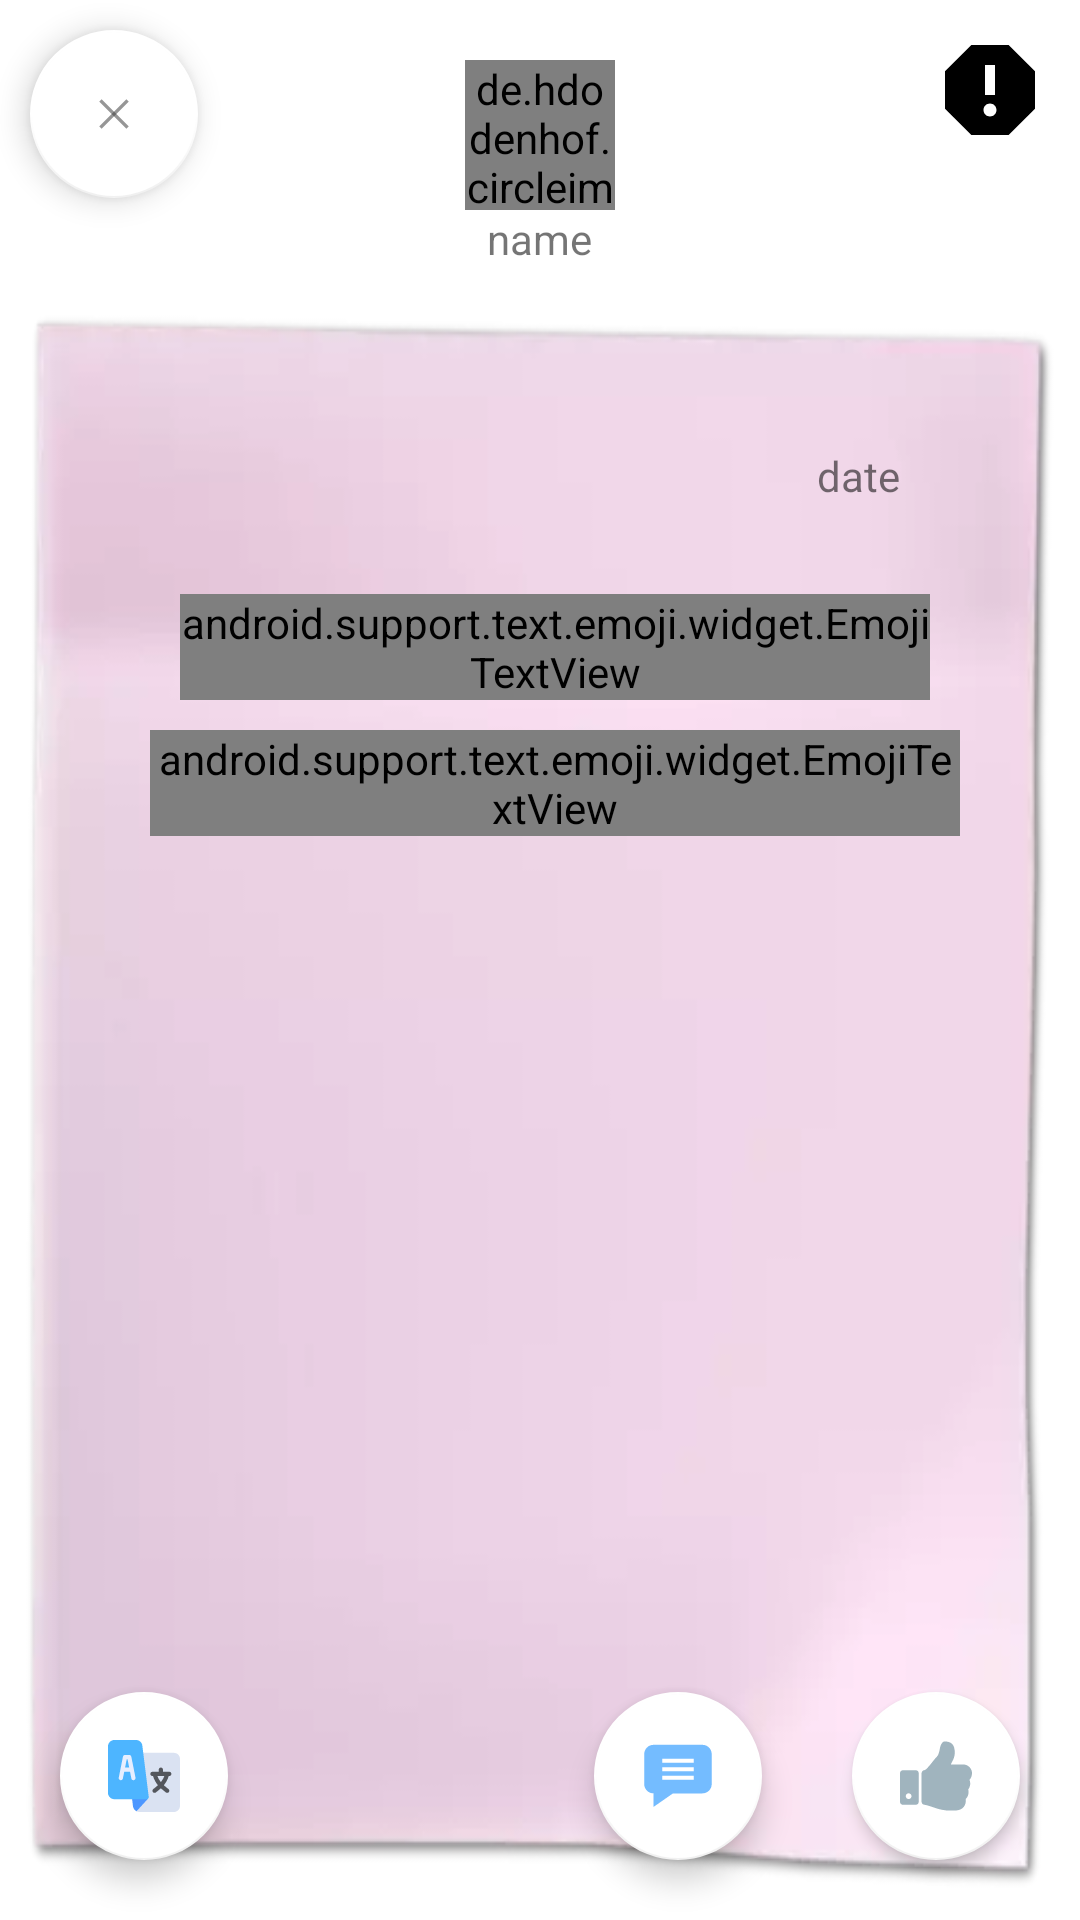

Named icons in this screenshot (1080 x 1920) and their centers, [x,y]:
comment: [678,1776]
language: [144,1776]
like: [935,1775]
report: [990,90]
